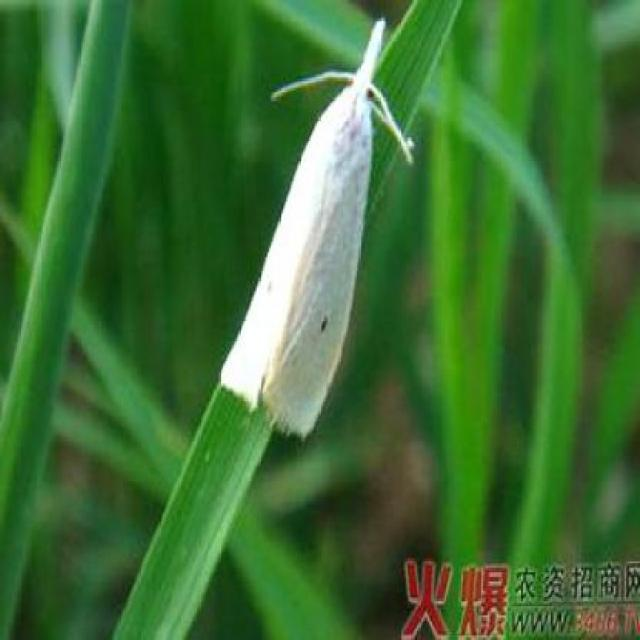stem-borer: (215, 17, 417, 445)
